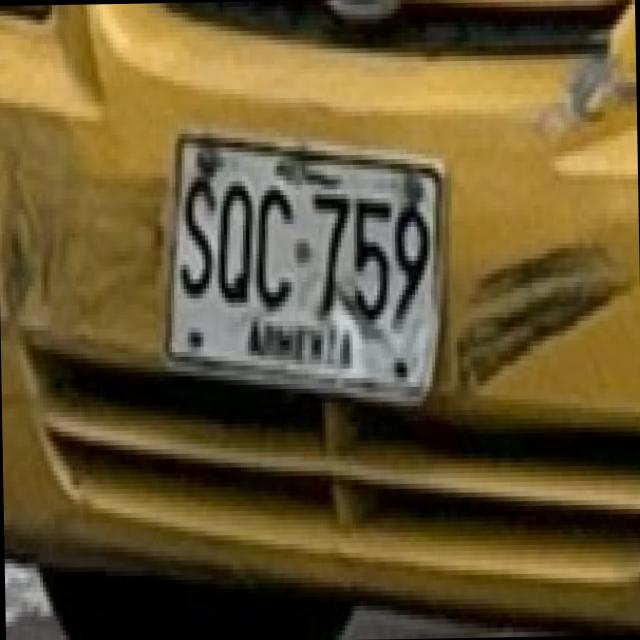number plate: (164, 128, 441, 400)
